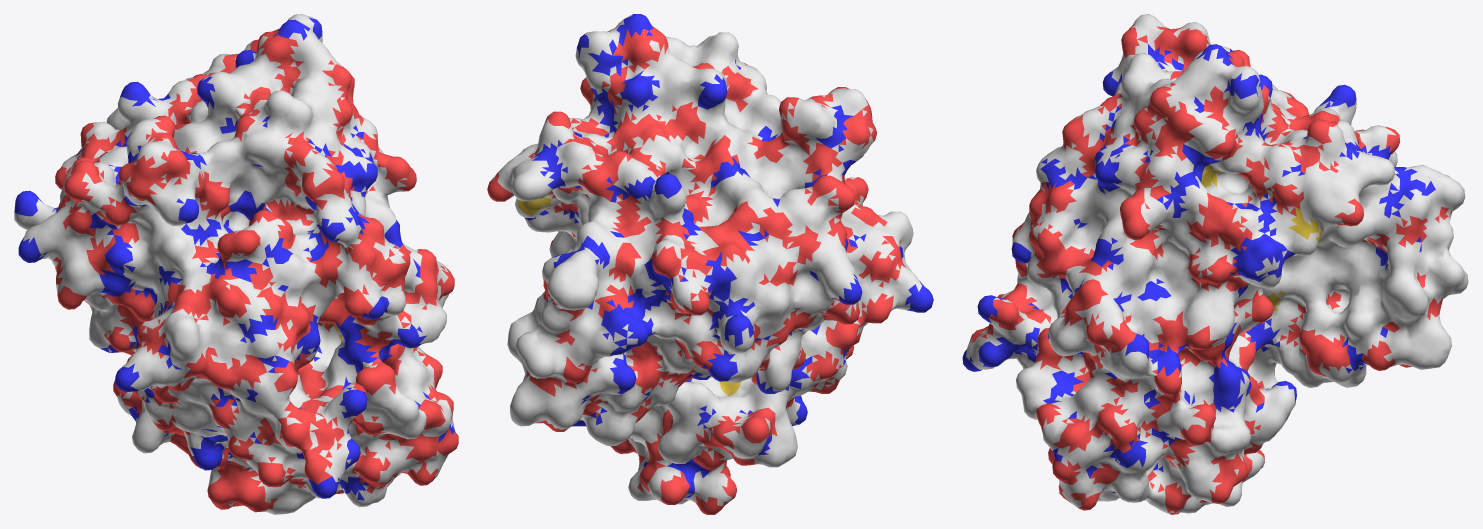
The model's file is 1aua_Clean.objForEric.obj.
3 views of the same model, side by side, from view 1: azimuth 30°, elevation 25°; view 2: azimuth 150°, elevation 25°; view 3: azimuth 270°, elevation 25° (orthographic). The views are drawn at different scales.
Parts seen in each view (by area): view 1: grp1; view 2: grp1; view 3: grp1.
Part boxes in pixels (left/top/right/bottom): grp1: left=14, top=14, right=458, bottom=514; grp1: left=487, top=14, right=933, bottom=514; grp1: left=962, top=14, right=1468, bottom=514.
Bounding box in the file's own units: 0.9968 × 1.26 × 1.21.
